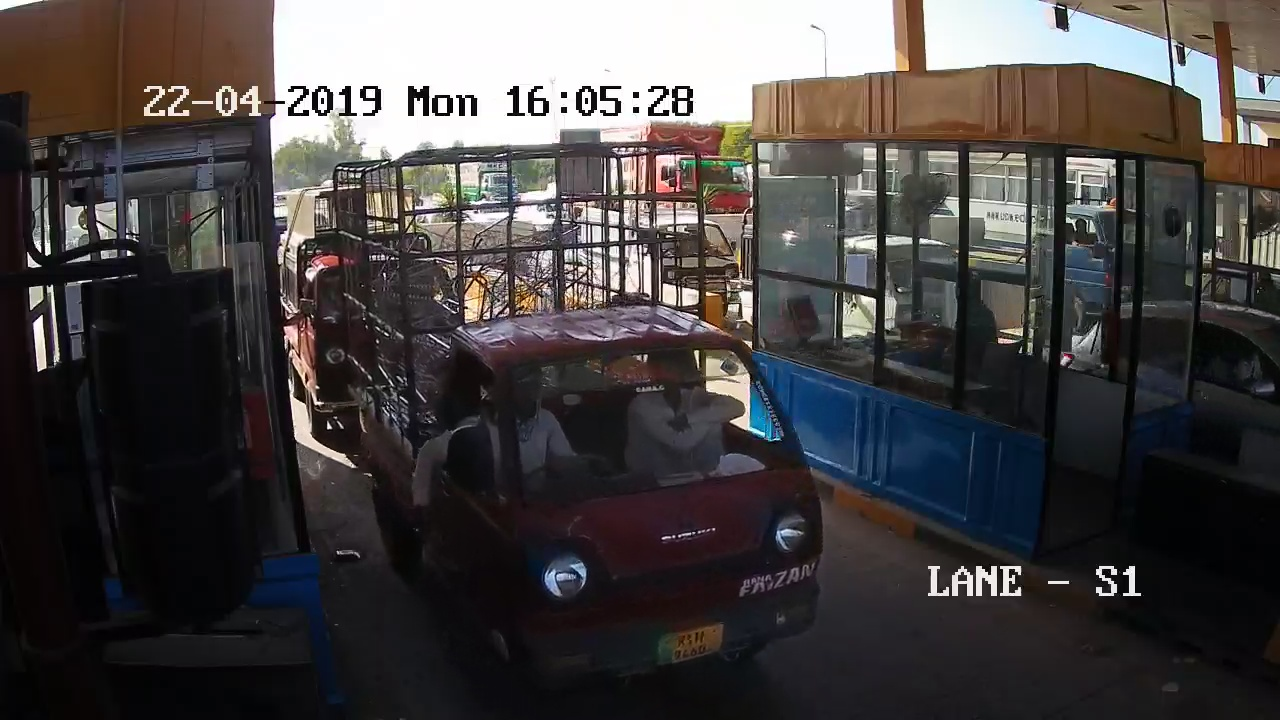Number Plate (Car): (656, 625, 724, 661)
